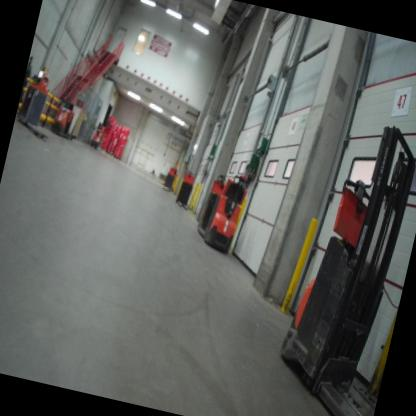pallet_truck: (257, 107, 416, 416), (190, 161, 258, 258), (13, 68, 63, 143), (50, 98, 89, 149), (171, 168, 201, 215), (87, 119, 109, 155), (160, 162, 181, 197)
